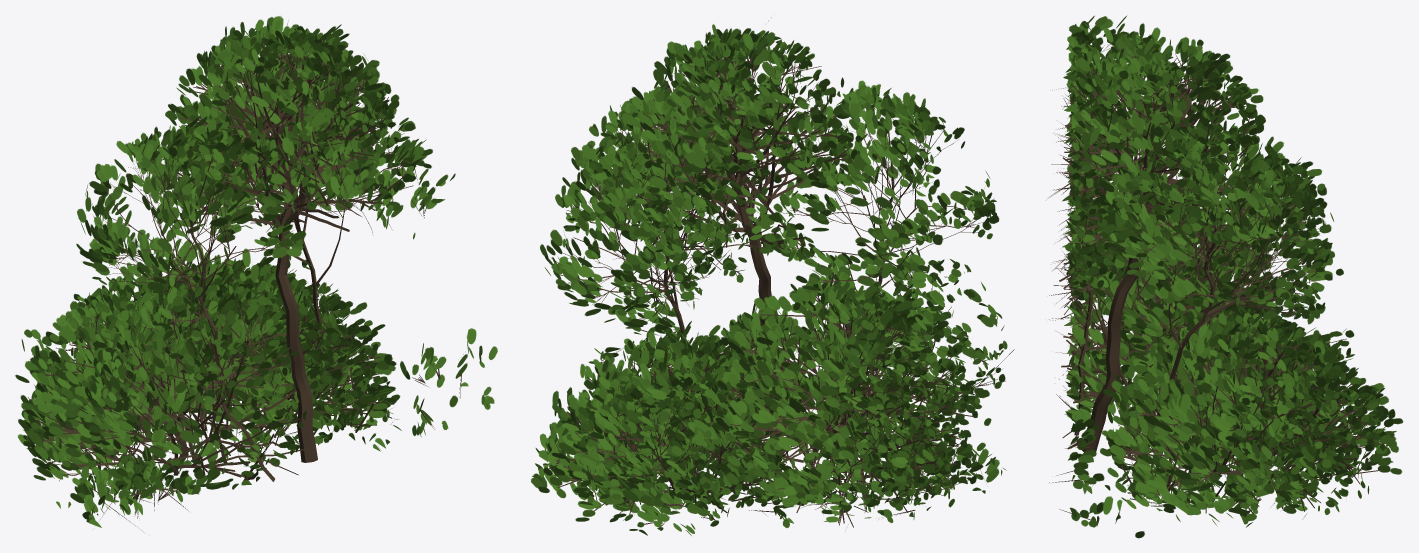
The picture shows the model from 3 angles, left to right: view 1: azimuth 30°, elevation 25°; view 2: azimuth 150°, elevation 25°; view 3: azimuth 270°, elevation 25°; orthographic projection.
Parts seen in each view (by area): view 1: oak 01.001_trunk_Mat.001_0.318; view 2: oak 01.001_trunk_Mat.001_0.318; view 3: oak 01.001_trunk_Mat.001_0.318.
Part boxes in pixels (x1,y1,x2,y2): oak 01.001_trunk_Mat.001_0.318: [15, 16, 497, 533]; oak 01.001_trunk_Mat.001_0.318: [531, 17, 1014, 535]; oak 01.001_trunk_Mat.001_0.318: [1048, 15, 1403, 538].
Size of the model in its own units: 4.87 by 4.86 by 3.56.
2 materials, 1 textured.
